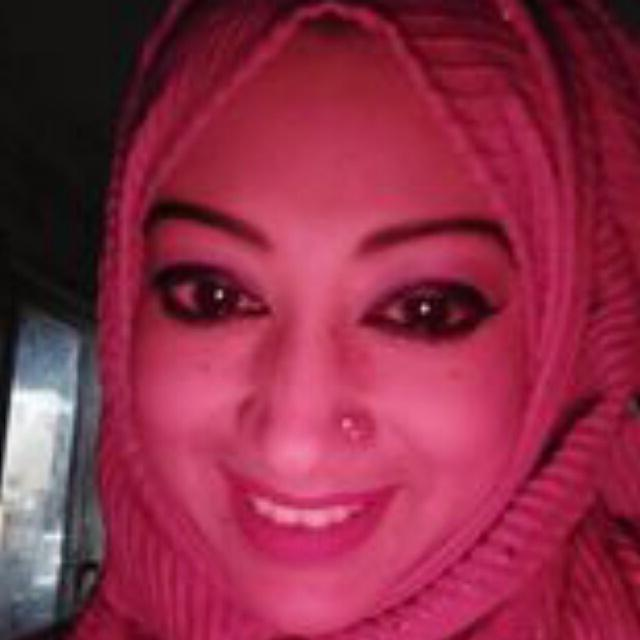Happy: (82, 102, 516, 572)
